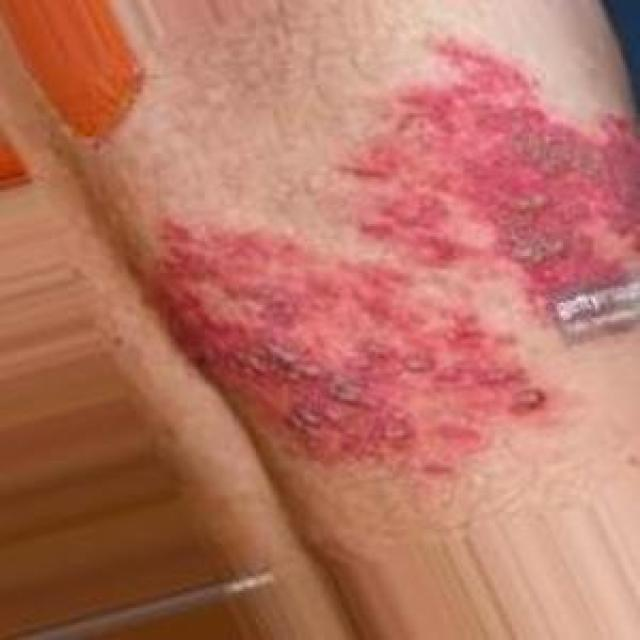Shingles: (148, 220, 543, 457), (349, 37, 640, 321)
